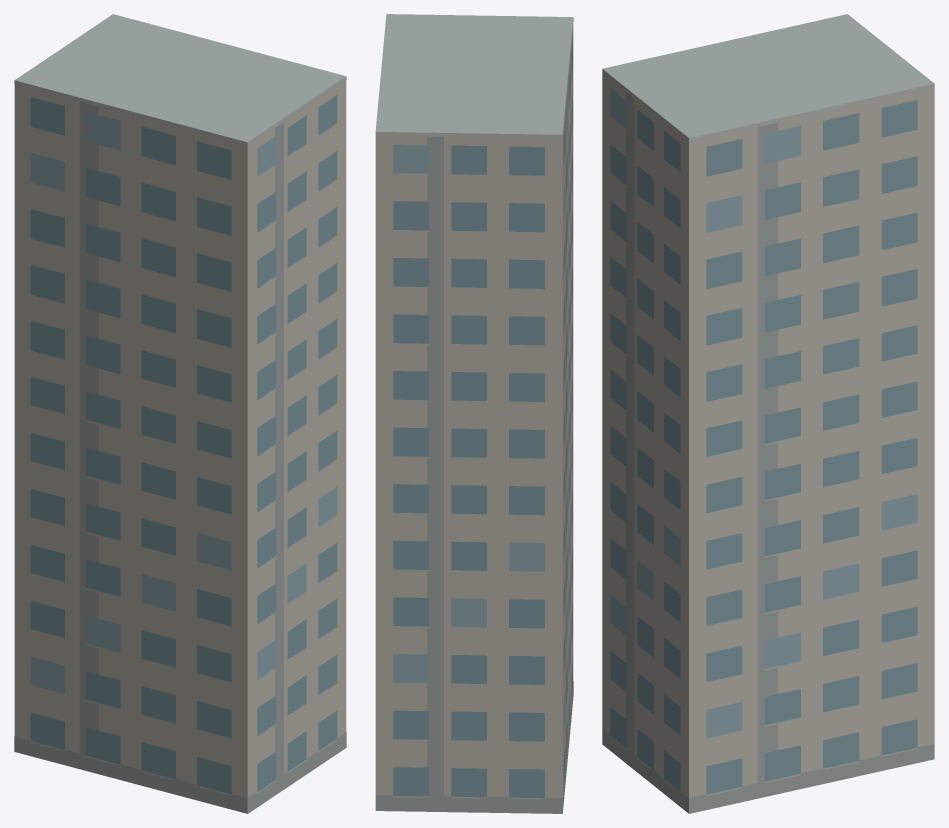
Rendered from residential-494f7257-ebbf-4338-8c44-c0b99e44e1ee.glb.
3 renders of one model, left to right at view 1: azimuth 30°, elevation 25°; view 2: azimuth 150°, elevation 25°; view 3: azimuth 270°, elevation 25°, orthographic.
Visible parts, largest first — view 1: residential-494f7257-ebbf-4338-8c44-c0b99e44e1ee.tmp; view 2: residential-494f7257-ebbf-4338-8c44-c0b99e44e1ee.tmp; view 3: residential-494f7257-ebbf-4338-8c44-c0b99e44e1ee.tmp.
Boxes of the visible parts, box(x1,y1,x2,y2) form: residential-494f7257-ebbf-4338-8c44-c0b99e44e1ee.tmp: box(14, 14, 346, 813); residential-494f7257-ebbf-4338-8c44-c0b99e44e1ee.tmp: box(375, 14, 573, 813); residential-494f7257-ebbf-4338-8c44-c0b99e44e1ee.tmp: box(602, 14, 934, 813).
Size of the model in its own units: 15.39 by 39 by 17.4.
